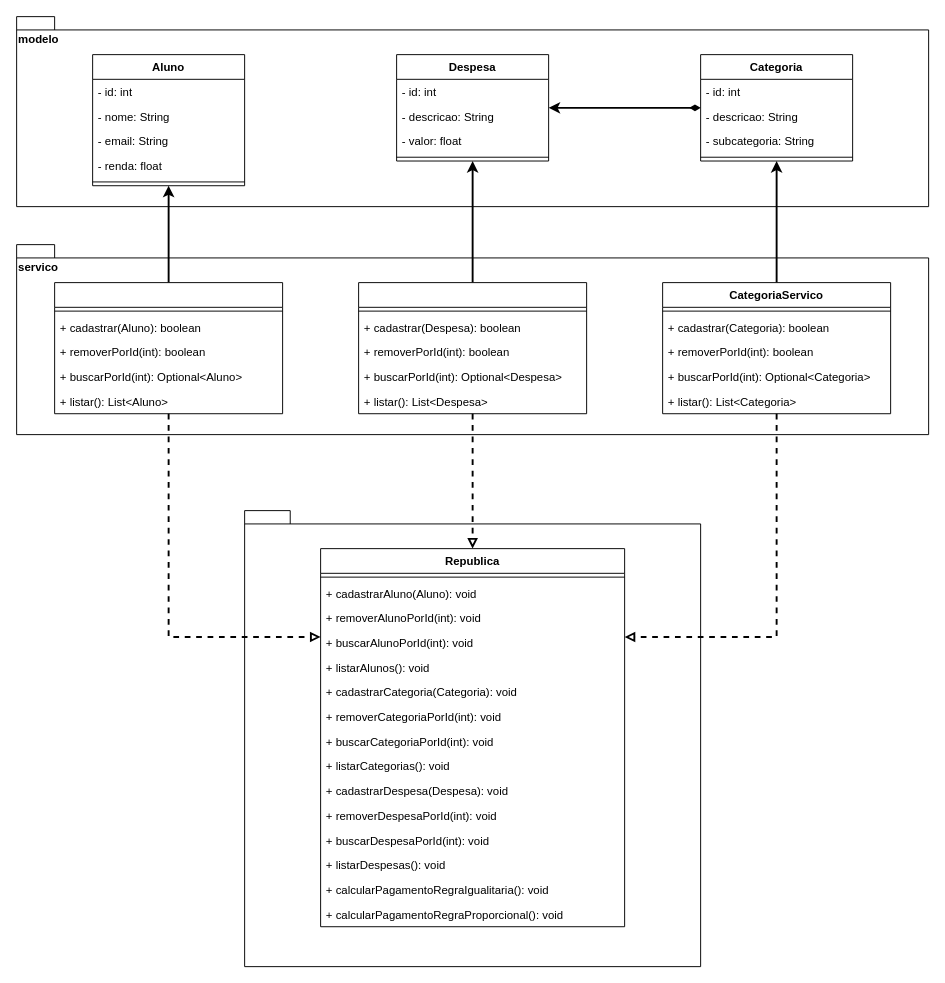
Image size: 945x983. Some labels were removed from this diagram. The box of each missing label's shape, as (x1, y1, x2, y2) in pixels:
AlunoServico: (54, 282, 283, 414)
controlador: (244, 510, 701, 967)
DespesaServico: (358, 282, 587, 414)
